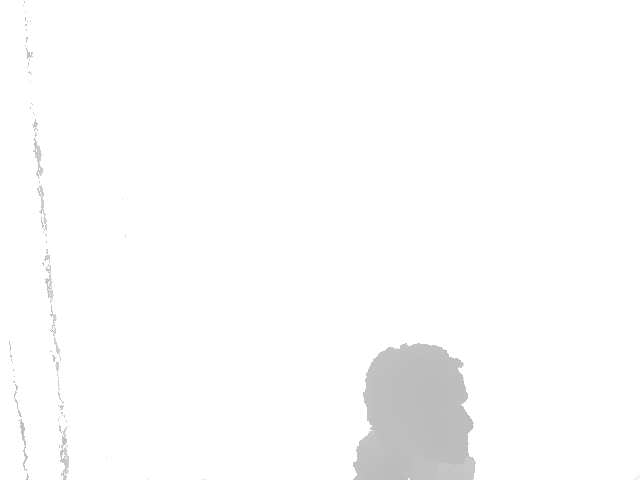head: (363, 346, 473, 468)
person: (352, 343, 476, 480)
